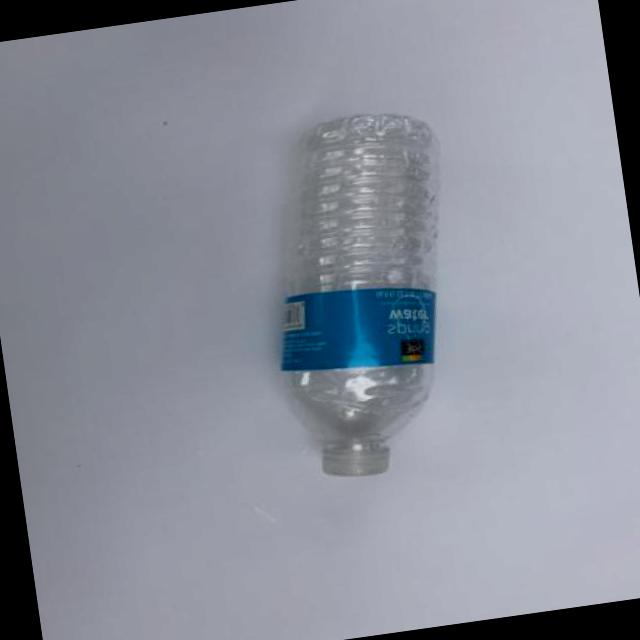bottle: (282, 114, 438, 475)
plastic: (288, 114, 438, 294)
